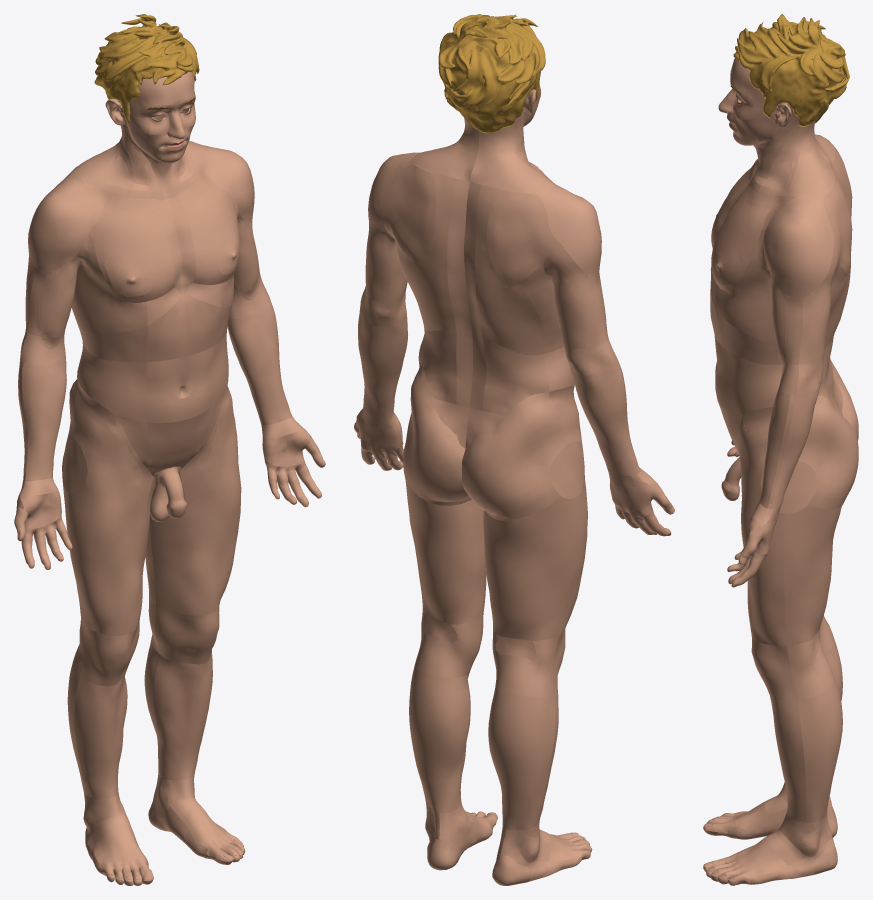
Rendered from skin-99f99f52abf6.glb.
3 renders of one model, left to right at view 1: azimuth 30°, elevation 25°; view 2: azimuth 150°, elevation 25°; view 3: azimuth 270°, elevation 25°, orthographic. The views are drawn at different scales.
Visible parts, largest first — view 1: Anterior region of thigh.r, Anterior region of thigh.l, Hairs of head, Anterior region of leg.l, Anterior region of leg.r, Pectoral region.r, Deltoid region.r, Anterior region of forearm.l, Anterior region of forearm.r, Lateral region of thorax.r, Lateral region of abdomen.r, Pectoral region.l (+45 smaller); view 2: Posterior region of thigh.r, Hairs of head, Gluteal region.r, Posterior region of thigh.l, Posterior region of leg.r, Posterior region of leg.l, Gluteal region.l, Scapular region.r, Posterior region of arm.r, Infrascapular region.r, Scapular region.l, Posterior region of forearm.r (+32 smaller); view 3: Hairs of head, Anterior region of thigh.l, Posterior region of thigh.l, Deltoid region.l, Gluteal region.l, Posterior region of leg.l, Lateral region of thorax.l, Anterior region of leg.l, Lateral region of abdomen.l, Pectoral region.l, Posterior region of arm.l, Posterior region of neck.l (+45 smaller).
Boxes of the visible parts, x1=… form: Anterior region of thigh.r: x1=69, y1=382, x2=154, y2=636; Anterior region of thigh.l: x1=150, y1=383, x2=241, y2=615; Hairs of head: x1=94, y1=14, x2=199, y2=123; Anterior region of leg.l: x1=153, y1=654, x2=212, y2=780; Anterior region of leg.r: x1=74, y1=674, x2=127, y2=799; Pectoral region.r: x1=94, y1=205, x2=174, y2=302; Deltoid region.r: x1=28, y1=174, x2=90, y2=271; Anterior region of forearm.l: x1=228, y1=304, x2=292, y2=425; Anterior region of forearm.r: x1=22, y1=360, x2=66, y2=481; Lateral region of thorax.r: x1=71, y1=225, x2=147, y2=333; Lateral region of abdomen.r: x1=77, y1=342, x2=147, y2=422; Pectoral region.l: x1=183, y1=179, x2=238, y2=284; Posterior region of thigh.r: x1=483, y1=496, x2=579, y2=640; Hairs of head: x1=438, y1=14, x2=545, y2=133; Gluteal region.r: x1=462, y1=392, x2=567, y2=518; Posterior region of thigh.l: x1=404, y1=472, x2=485, y2=624; Posterior region of leg.r: x1=488, y1=688, x2=555, y2=830; Posterior region of leg.l: x1=409, y1=667, x2=468, y2=813; Gluteal region.l: x1=403, y1=360, x2=470, y2=501; Scapular region.r: x1=486, y1=191, x2=559, y2=287; Posterior region of arm.r: x1=543, y1=242, x2=606, y2=348; Infrascapular region.r: x1=475, y1=273, x2=545, y2=354; Scapular region.l: x1=379, y1=164, x2=436, y2=266; Posterior region of forearm.r: x1=570, y1=368, x2=640, y2=475; Hairs of head: x1=733, y1=14, x2=849, y2=126; Anterior region of thigh.l: x1=738, y1=407, x2=787, y2=646; Posterior region of thigh.l: x1=783, y1=506, x2=841, y2=645; Deltoid region.l: x1=763, y1=197, x2=834, y2=297; Gluteal region.l: x1=798, y1=395, x2=858, y2=509; Posterior region of leg.l: x1=798, y1=679, x2=842, y2=822; Lateral region of thorax.l: x1=715, y1=229, x2=846, y2=343; Anterior region of leg.l: x1=770, y1=696, x2=806, y2=822; Lateral region of abdomen.l: x1=723, y1=347, x2=782, y2=414; Pectoral region.l: x1=711, y1=197, x2=769, y2=291; Posterior region of arm.l: x1=799, y1=248, x2=839, y2=364; Posterior region of neck.l: x1=784, y1=120, x2=834, y2=199.
Size of the model in its own units: 0.6801 by 1.74 by 0.294.
